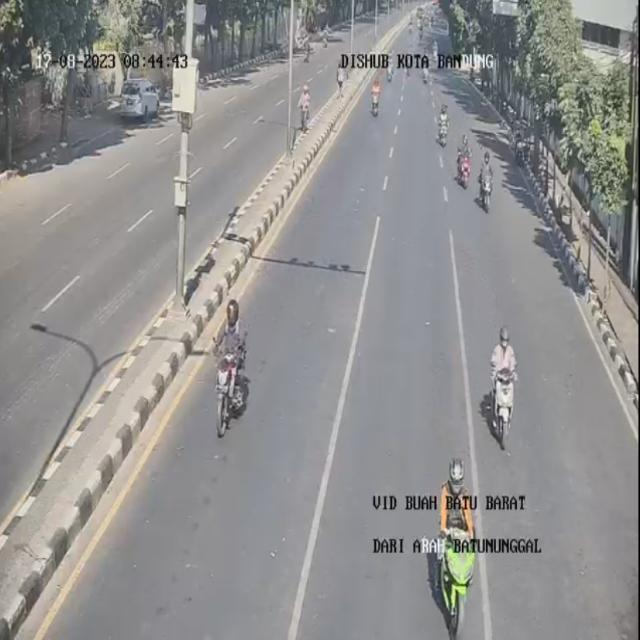motorcycle: (426, 449, 487, 636), (210, 296, 249, 433), (488, 320, 528, 449), (480, 149, 495, 212), (456, 135, 472, 189), (435, 100, 451, 148), (368, 73, 384, 121), (420, 62, 430, 87), (384, 61, 394, 86)
